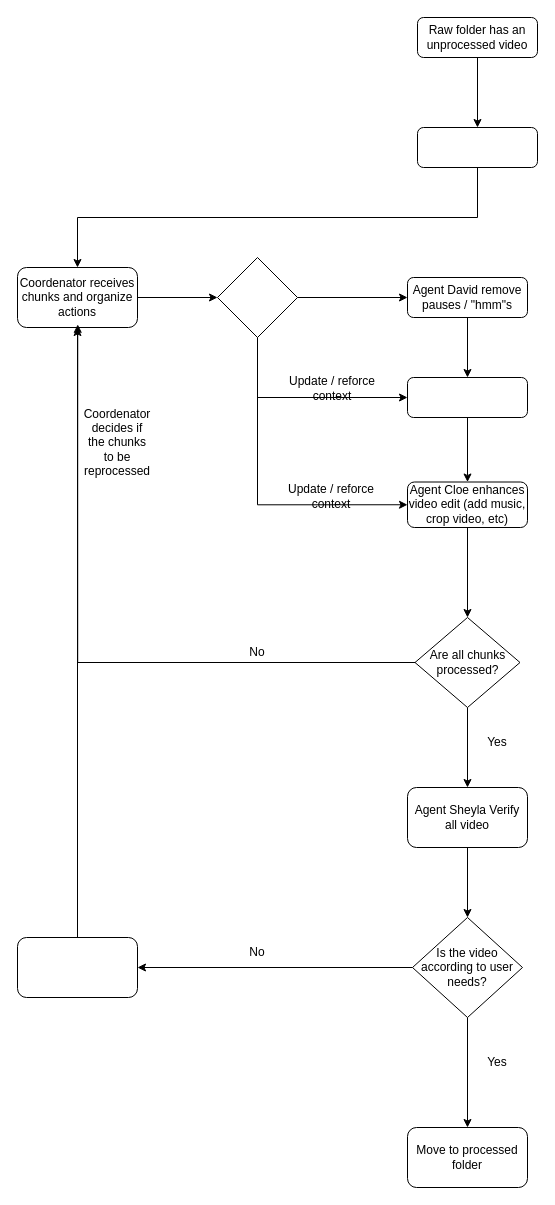
This 555x1205 diagram has some shape labels left out. The centre of each missing label's shape, as x and y in pixels:
"Agent Rico chunks the video to improve processing" belongs at (x=477, y=147).
"Agent Saimon cut only relevant parts" belongs at (x=467, y=397).
"For each chunk" belongs at (x=257, y=297).
"Sheyla sends feedback to coordenator to reprocess the video" belongs at (x=77, y=967).
